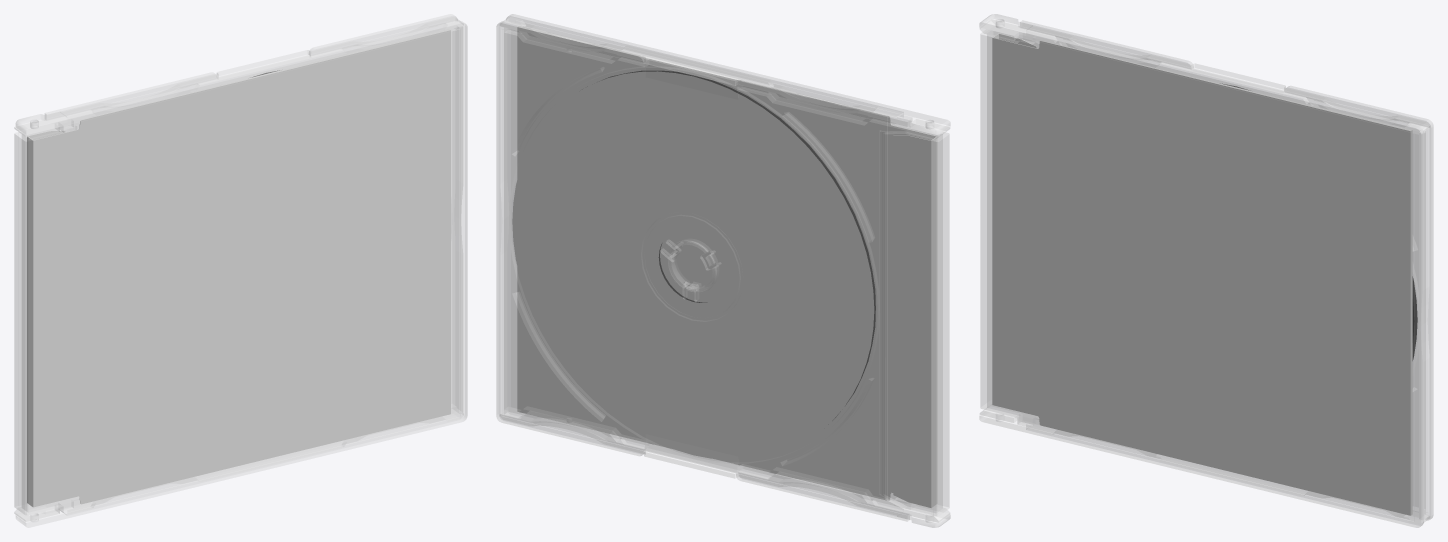
File: slimline-jewel-case.glb
3 views of the same model, side by side, from view 1: azimuth 30°, elevation 25°; view 2: azimuth 150°, elevation 25°; view 3: azimuth 330°, elevation 25° (orthographic).
Parts seen in each view (by area): view 1: cd_case_cover, booklet, cd_case_disc_holder; view 2: cd_case_disc_holder, cd, booklet, cd_case_cover; view 3: cd_case_cover, booklet, cd_case_disc_holder, cd.
Part boxes in pixels (<box>): cd_case_cover: <box>14,17,467,527</box>; booklet: <box>27,29,450,507</box>; cd_case_disc_holder: <box>14,14,462,521</box>; cd_case_disc_holder: <box>496,21,949,522</box>; cd: <box>509,66,878,463</box>; booklet: <box>517,26,937,507</box>; cd_case_cover: <box>500,14,950,527</box>; cd_case_cover: <box>979,14,1429,527</box>; booklet: <box>992,33,1412,515</box>; cd_case_disc_holder: <box>980,19,1433,520</box>; cd: <box>1224,84,1418,373</box>.
Bounding box in the file's own units: 14.39 × 12.43 × 0.699.
5 materials, 4 textured.
